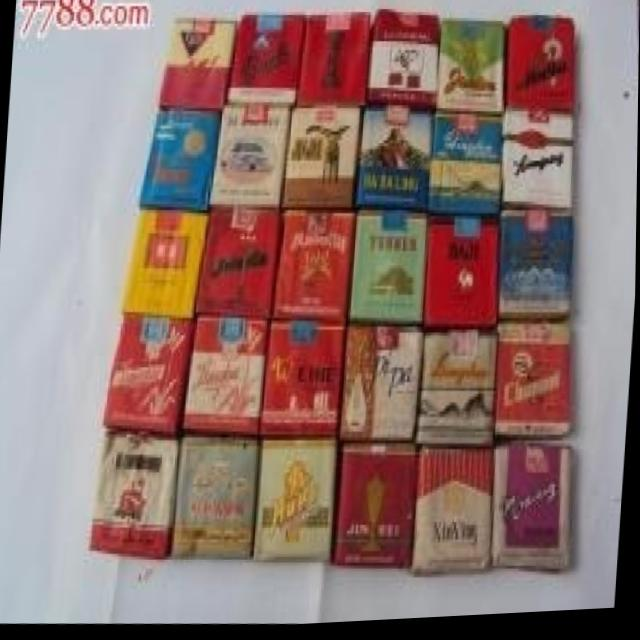box: (88, 433, 182, 562), (176, 317, 273, 439), (102, 316, 197, 439), (253, 434, 340, 566), (334, 441, 418, 576), (492, 447, 577, 578), (170, 437, 259, 562), (411, 451, 496, 579), (259, 321, 349, 438), (339, 325, 425, 441), (195, 210, 284, 321), (417, 332, 497, 452), (351, 211, 430, 332), (273, 211, 356, 325), (496, 327, 577, 443), (121, 212, 210, 317), (423, 215, 502, 332), (138, 110, 223, 215), (208, 108, 293, 210), (356, 112, 437, 215), (282, 109, 363, 211), (499, 217, 574, 327), (428, 113, 504, 219), (155, 17, 238, 111), (228, 16, 308, 109), (367, 13, 441, 113), (297, 13, 371, 112), (504, 117, 576, 217), (503, 22, 576, 118), (437, 23, 504, 117)
